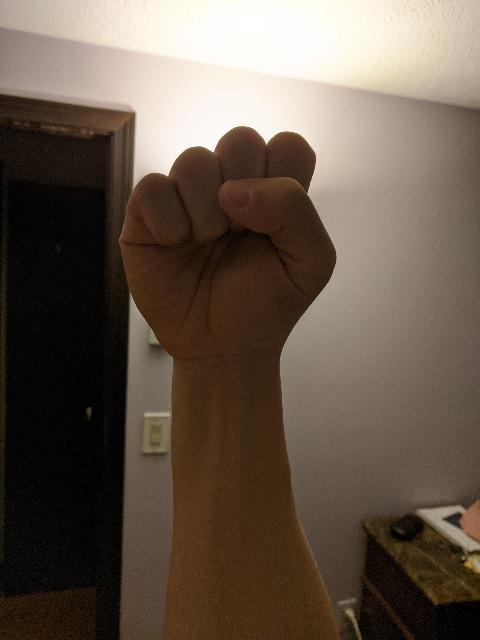S: (116, 120, 343, 366)
